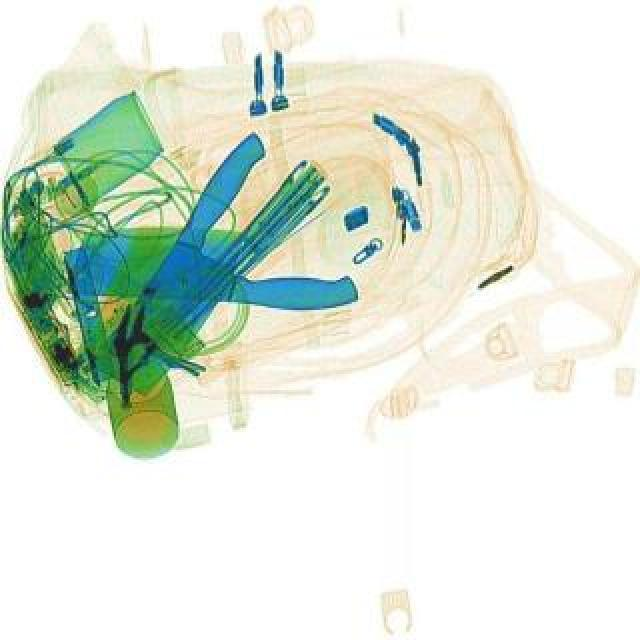knife: (82, 130, 312, 398), (66, 218, 362, 314)
